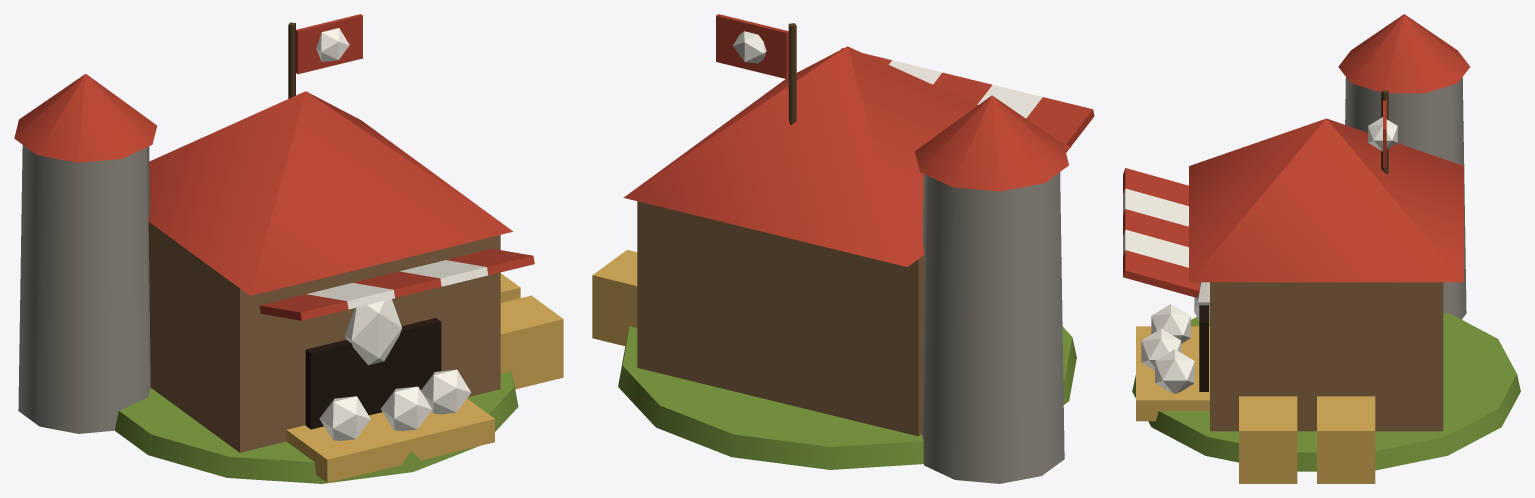
The model's file is level3.glb.
The picture shows the model from 3 angles, left to right: view 1: azimuth 30°, elevation 25°; view 2: azimuth 150°, elevation 25°; view 3: azimuth 270°, elevation 25°; orthographic projection. The views are drawn at different scales.
Bounding box in the file's own units: 2.69 × 1.96 × 2.29.
